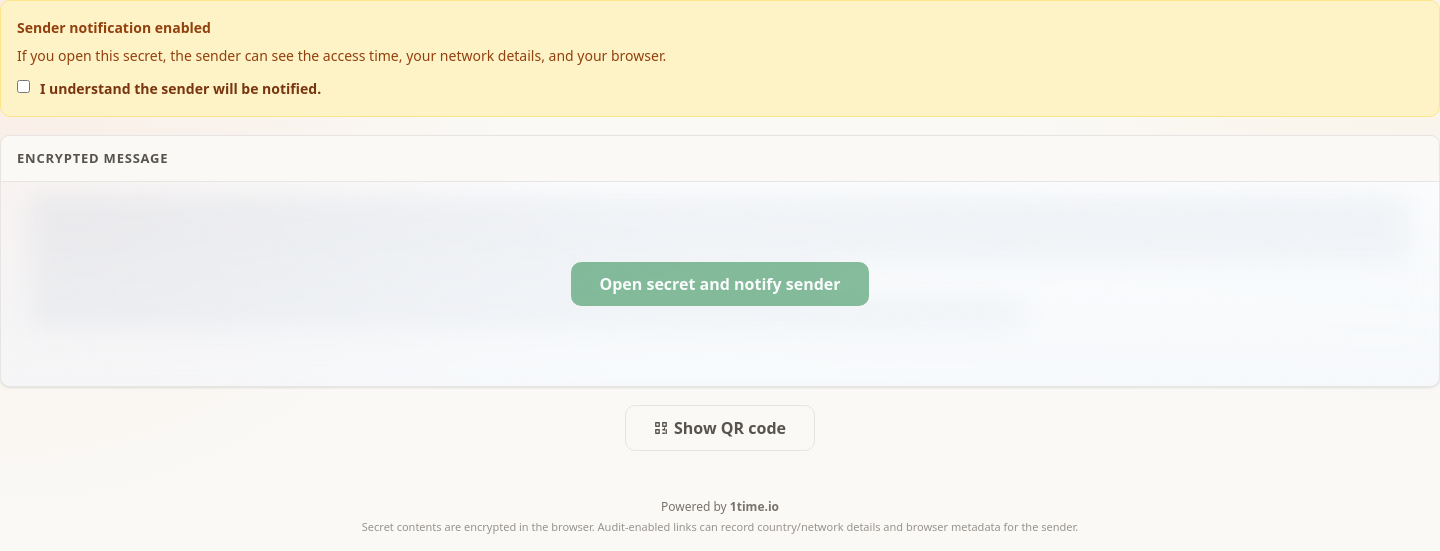
Test: ViewSecretMessage component › requires acknowledgement before opening when sender notifications are enabled
Expected: the text "Sender notification enabled" is shown, [17,18,211,37]
Expected: the button "Open secret and notify sender" is disabled, [572,262,869,306]
Click the checkbox labelled "I understand the sender will be notified.": {"x": 24, "y": 86} [17,80,30,93]
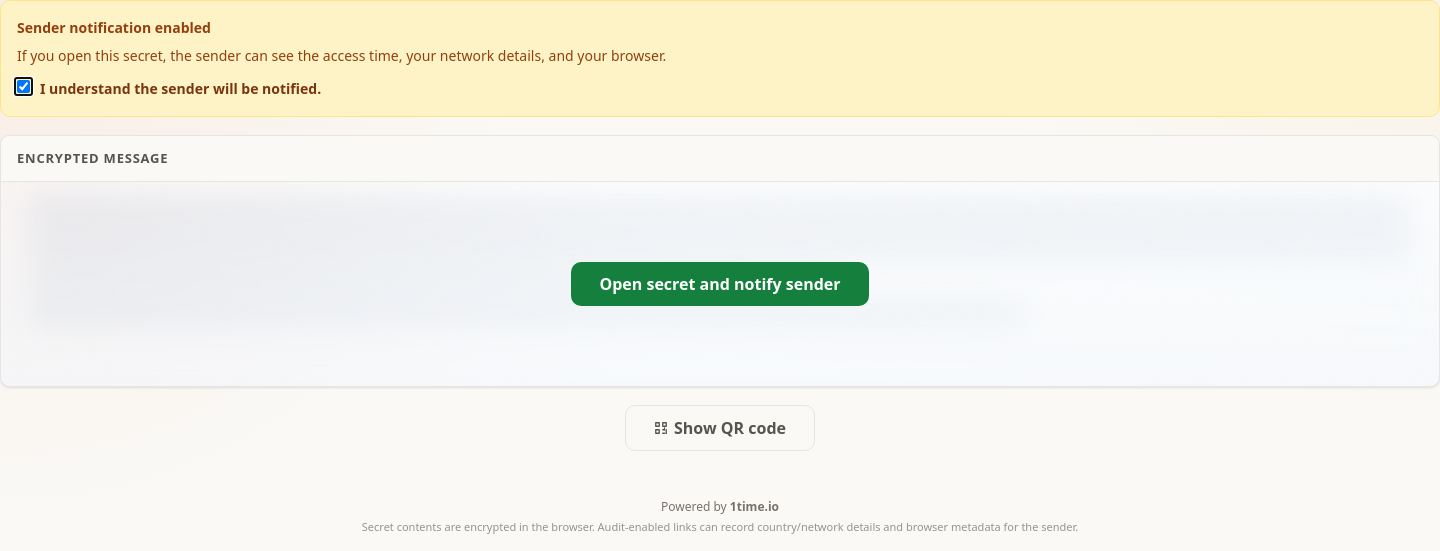
Expected: the button "Open secret and notify sender" is enabled, [572,262,869,306]
